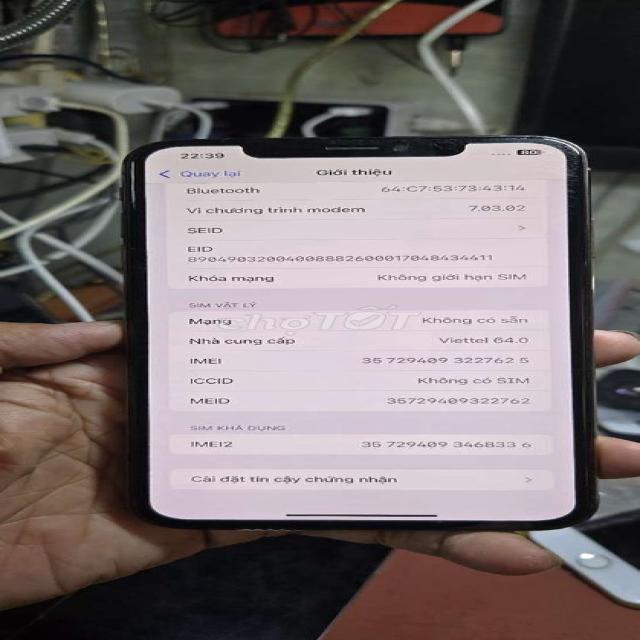gen_x_xs: (99, 132, 612, 542)
